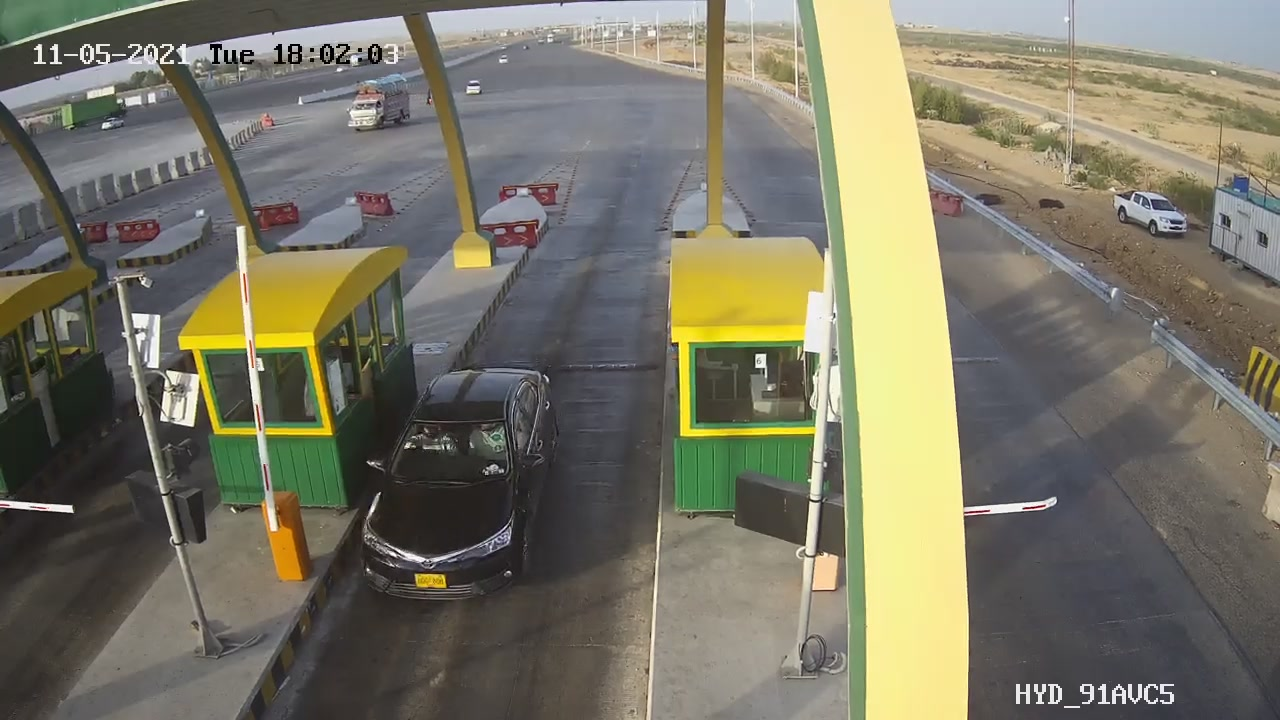F1: (344, 348, 582, 620)
